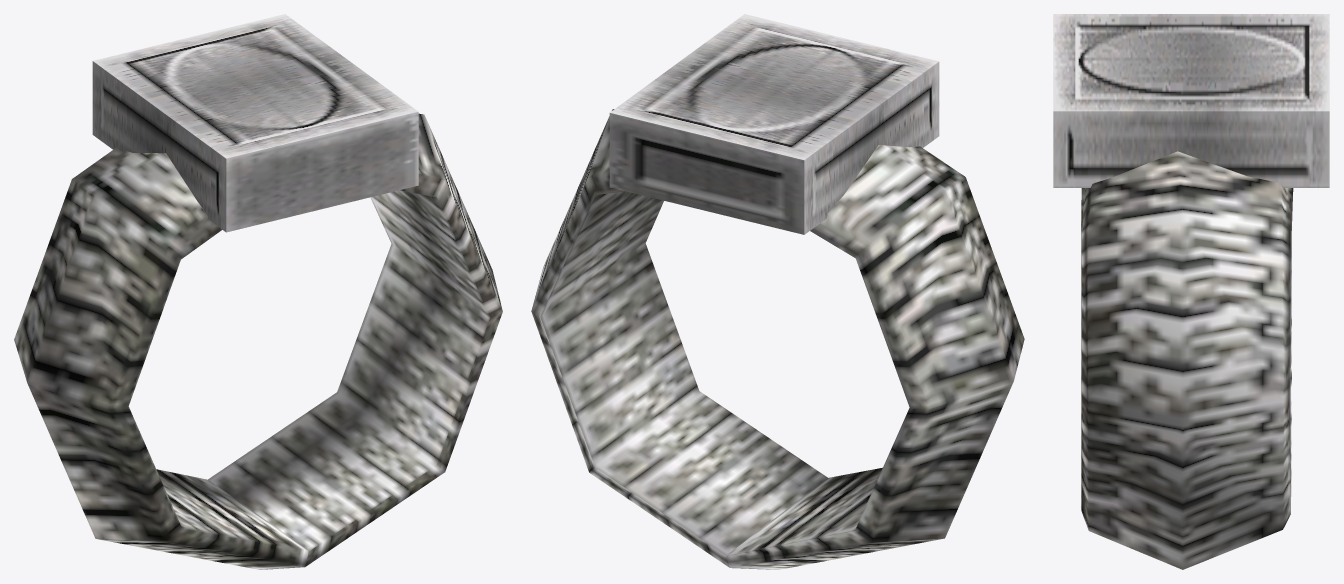
File: ring_s03.fbx
3 views of the same model, side by side, from view 1: azimuth 30°, elevation 25°; view 2: azimuth 150°, elevation 25°; view 3: azimuth 270°, elevation 25° (orthographic). The views are drawn at different scales.
Parts seen in each view (by area): view 1: mesh_node; view 2: mesh_node; view 3: mesh_node.
Boxes of the visible parts, bbox=[...] form: mesh_node: bbox=[14, 14, 502, 569]; mesh_node: bbox=[531, 14, 1024, 569]; mesh_node: bbox=[1053, 14, 1329, 569].
Size of the model in its own units: 0.0246 by 0.0243 by 0.0122.
